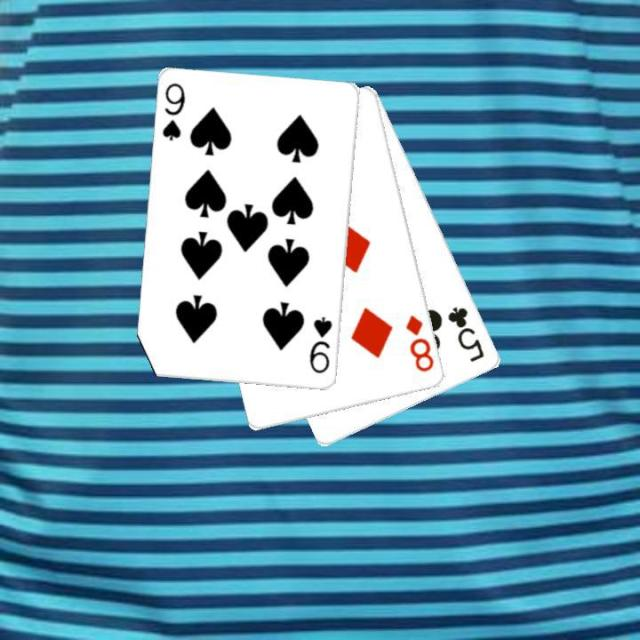5C: (444, 303, 487, 365)
8D: (402, 311, 436, 374)
9S: (159, 79, 188, 143), (306, 313, 334, 376)
